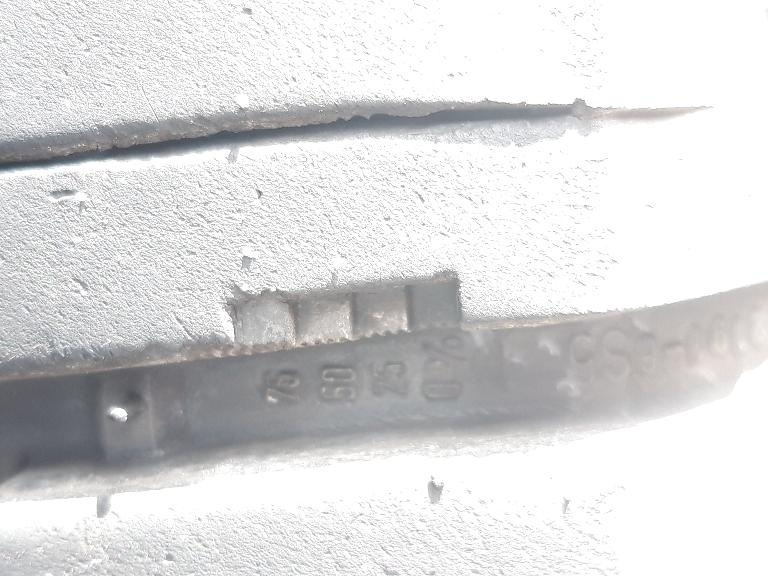temoin:90: (167, 262, 483, 380)
